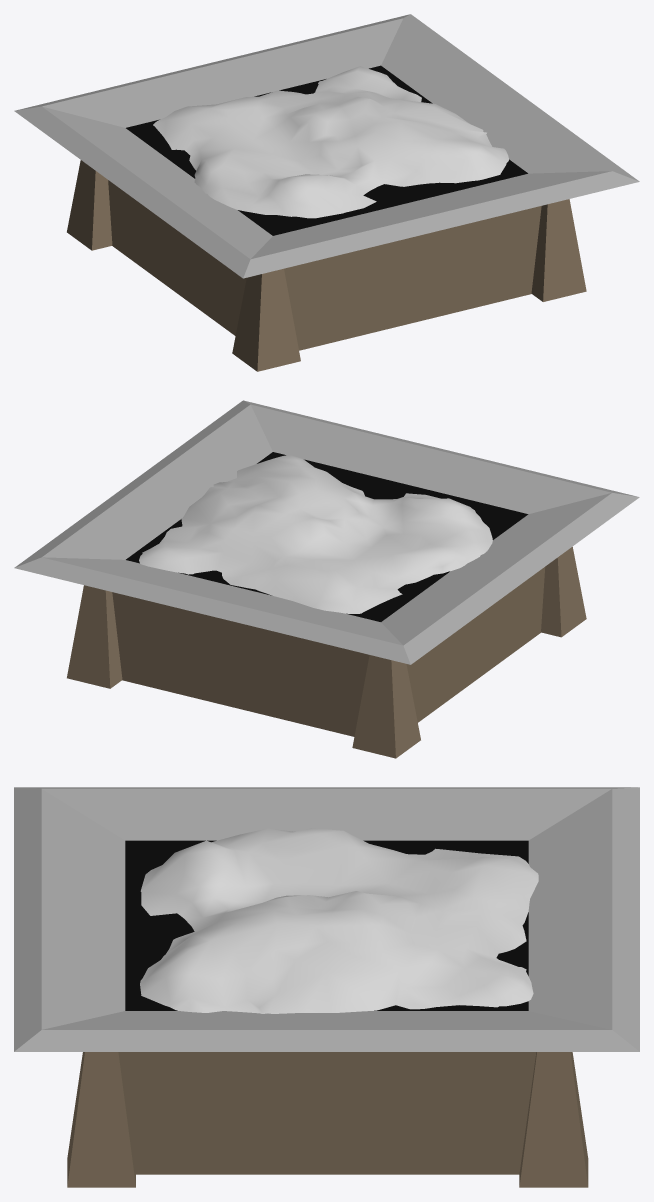
The model's file is Forge.fbx.
3 renders of one model, top to bottom at view 1: azimuth 30°, elevation 25°; view 2: azimuth 150°, elevation 25°; view 3: azimuth 270°, elevation 25°, orthographic. The views are drawn at different scales.
Parts seen in each view (by area): view 1: Plane; view 2: Plane; view 3: Plane.
Boxes of the visible parts, box(x1,y1,x2,y2) form: Plane: box(14, 14, 639, 371); Plane: box(14, 400, 639, 758); Plane: box(14, 787, 639, 1187).
Bounding box in the file's own units: 464 × 157 × 464.
